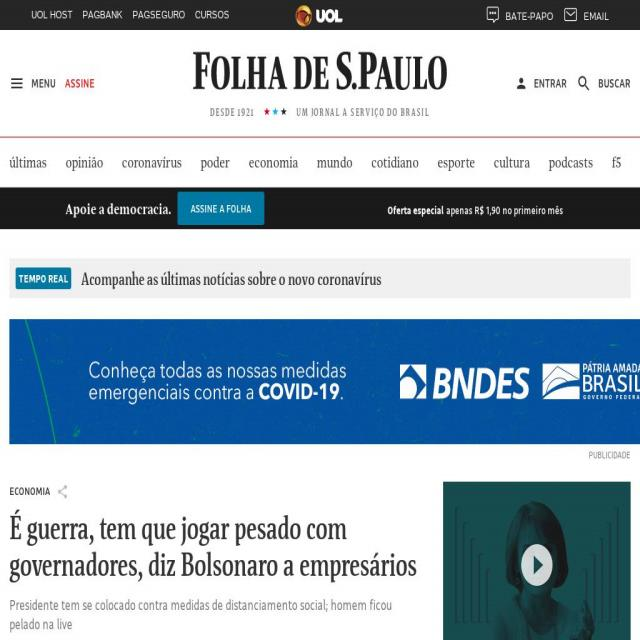login-option: (512, 72, 568, 92)
navigation-links: (2, 143, 636, 177), (25, 2, 234, 25)
options: (6, 70, 59, 95)
search: (576, 74, 635, 94)
